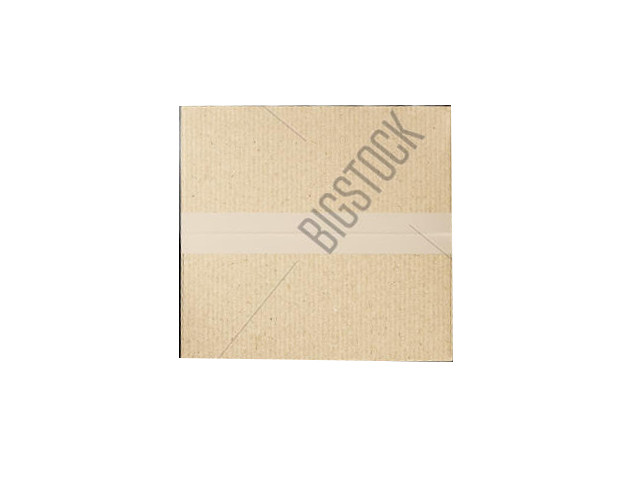cardboard: (178, 107, 450, 359)
